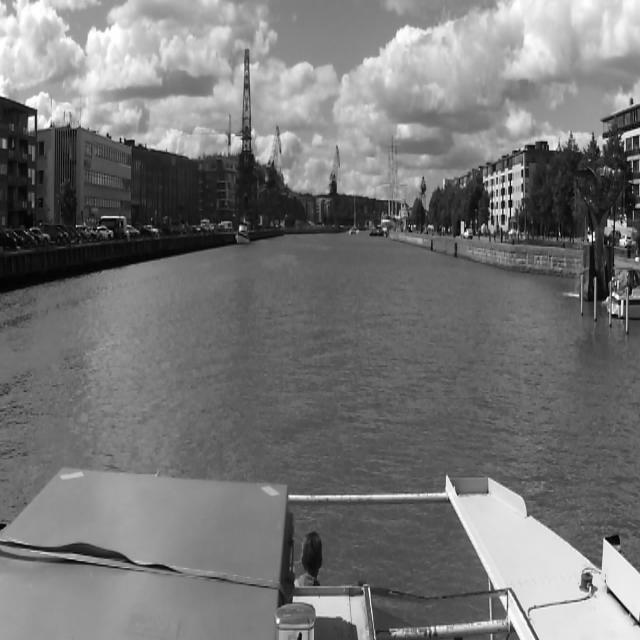ship: (378, 139, 407, 230), (346, 191, 360, 234), (233, 216, 251, 244)
